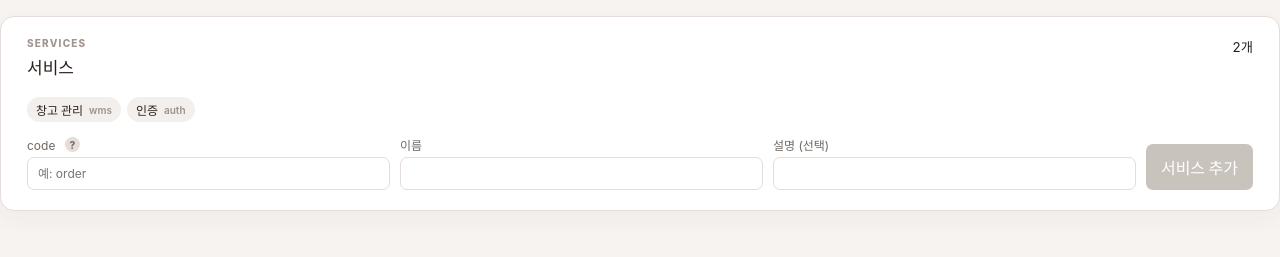
Test: AudiencePanel › code 규칙과 삭제 불가 안내는 code 옆 배지의 툴팁으로 보여준다
Hover over the picture named "code 입력 규칙" at (72, 144), box top-left (65, 137), bottom-right (80, 152)
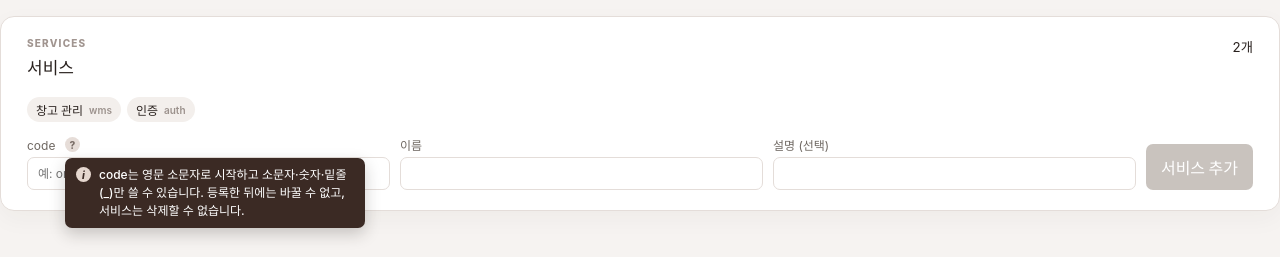
Expected: the tooltip shows "등록한 뒤에는 바꿀 수 없고, 서비스는 삭제할 수 없습니다.", top-left (99, 167), bottom-right (346, 218)
